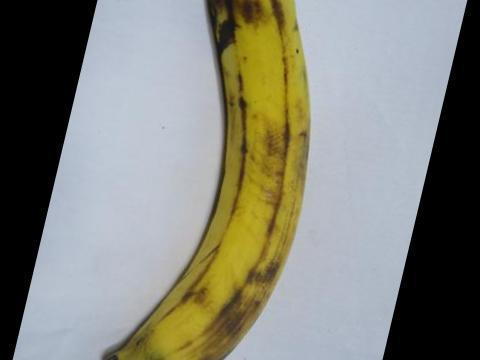overripe: (97, 0, 316, 359)
